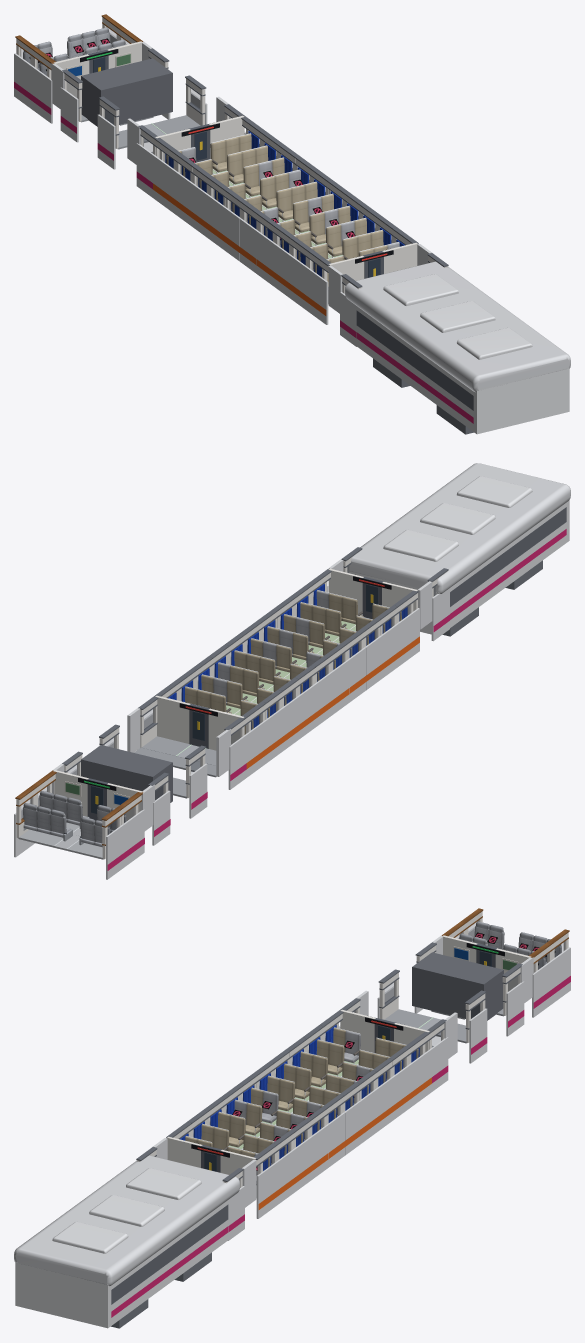
Rendered from car_ordinary.glb.
The picture shows the model from 3 angles, top to bottom: view 1: azimuth 30°, elevation 25°; view 2: azimuth 150°, elevation 25°; view 3: azimuth 330°, elevation 25°; orthographic projection.
Visible parts, largest first — view 1: global_st_1, global_st_2, car_st_16, car_st_12, car_st_13, car_st_26, car_st_17, car_st_7, car_st_6, car_st_4, car_st_19, car_st_24 (+12 smaller); view 2: global_st_1, car_st_8, global_st_2, car_st_13, car_st_14, car_st_6, car_st_12, car_st_16, car_st_17, car_st_7, car_st_15, car_st_26 (+12 smaller); view 3: global_st_1, global_st_2, car_st_16, car_st_12, car_st_13, car_st_26, car_st_17, car_st_7, car_st_6, car_st_4, car_st_19, car_st_24 (+12 smaller).
Boxes of the visible parts, <box> form: global_st_1: <box>345,261,570,434</box>; global_st_2: <box>81,58,172,126</box>; car_st_16: <box>97,75,207,169</box>; car_st_12: <box>329,242,417,280</box>; car_st_13: <box>155,115,244,162</box>; car_st_26: <box>153,116,265,212</box>; car_st_17: <box>305,228,418,324</box>; car_st_7: <box>30,26,142,123</box>; car_st_6: <box>53,41,142,97</box>; car_st_4: <box>60,48,170,142</box>; car_st_19: <box>272,203,380,297</box>; car_st_24: <box>190,143,298,237</box>; global_st_1: <box>347,463,570,636</box>; car_st_8: <box>14,785,123,879</box>; global_st_2: <box>81,745,172,802</box>; car_st_13: <box>155,695,244,750</box>; car_st_14: <box>138,696,246,789</box>; car_st_6: <box>53,770,142,820</box>; car_st_12: <box>328,568,417,618</box>; car_st_16: <box>99,724,207,818</box>; car_st_17: <box>307,569,419,665</box>; car_st_7: <box>32,770,144,867</box>; car_st_15: <box>127,706,230,777</box>; car_st_26: <box>155,680,267,777</box>; global_st_1: <box>14,1155,239,1328</box>; global_st_2: <box>412,952,503,1020</box>; car_st_16: <box>377,969,487,1063</box>; car_st_12: <box>167,1136,255,1174</box>; car_st_13: <box>340,1009,429,1056</box>; car_st_26: <box>319,1010,431,1106</box>; car_st_17: <box>166,1122,279,1218</box>; car_st_7: <box>442,920,554,1017</box>; car_st_6: <box>442,935,531,991</box>; car_st_4: <box>414,942,524,1036</box>; car_st_19: <box>204,1097,312,1191</box>; car_st_24: <box>286,1037,394,1131</box>.
Size of the model in its own units: 3.56 by 2.65 by 29.
Materials: 45 (7 with a texture image).
